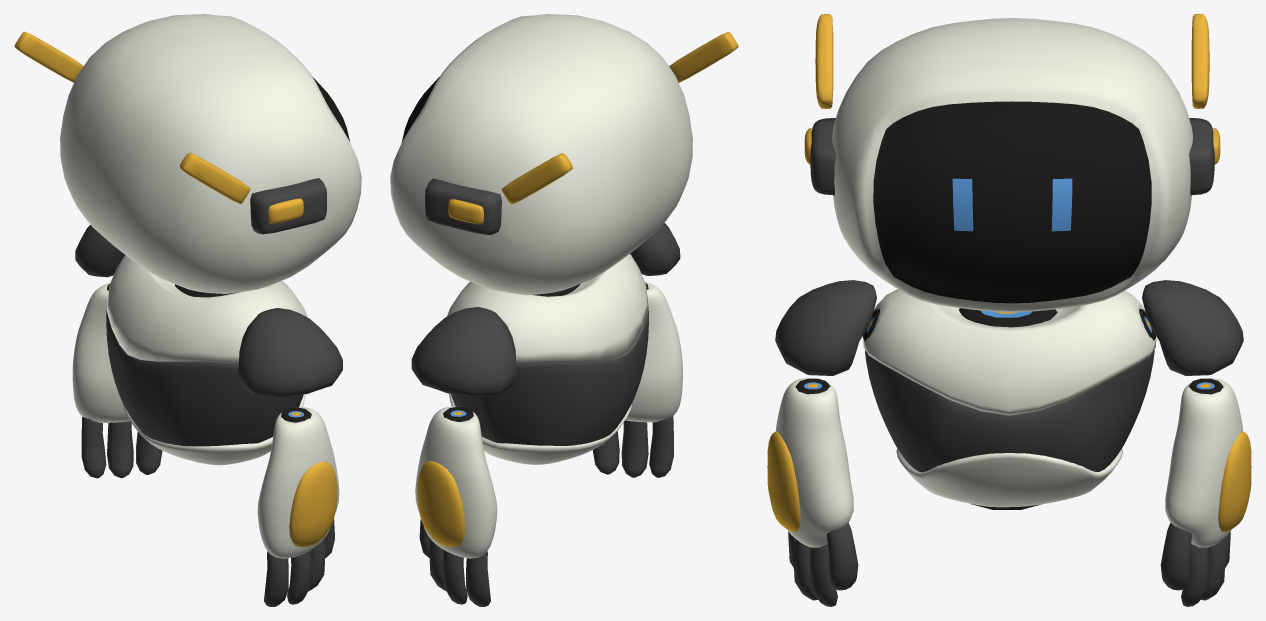
The model's file is Paqui_Character (1).fbx.
The picture shows the model from 3 angles, left to right: view 1: azimuth 30°, elevation 25°; view 2: azimuth 150°, elevation 25°; view 3: azimuth 270°, elevation 25°; orthographic projection. The views are drawn at different scales.
Visible parts, largest first — view 1: Cabeza_Paqui, Cuerpo_Paqui, Brazos_R_Paqui, Brazos_L_Paqui, Hombros_R_Paqui, Hombros_L_Paqui; view 2: Cabeza_Paqui, Cuerpo_Paqui, Brazos_L_Paqui, Brazos_R_Paqui, Hombros_L_Paqui, Hombros_R_Paqui; view 3: Cabeza_Paqui, Cuerpo_Paqui, Brazos_R_Paqui, Brazos_L_Paqui, Hombros_R_Paqui, Hombros_L_Paqui.
Boxes of the visible parts, x1,y1,x2,y2 form: Cabeza_Paqui: (14,14,361,293); Cuerpo_Paqui: (106,255,307,465); Brazos_R_Paqui: (257,407,339,606); Brazos_L_Paqui: (72,283,162,478); Hombros_R_Paqui: (238,308,342,397); Hombros_L_Paqui: (75,225,124,277); Cabeza_Paqui: (390,14,738,295); Cuerpo_Paqui: (447,254,648,464); Brazos_L_Paqui: (415,406,497,606); Brazos_R_Paqui: (593,281,682,477); Hombros_L_Paqui: (411,307,516,396); Hombros_R_Paqui: (630,223,680,275); Cabeza_Paqui: (804,14,1220,312); Cuerpo_Paqui: (862,289,1156,509); Brazos_R_Paqui: (767,378,858,606); Brazos_L_Paqui: (1160,378,1251,606); Hombros_R_Paqui: (775,280,876,375); Hombros_L_Paqui: (1142,280,1243,375).
Bounding box in the file's own units: 53.24 × 113 × 88.16.
